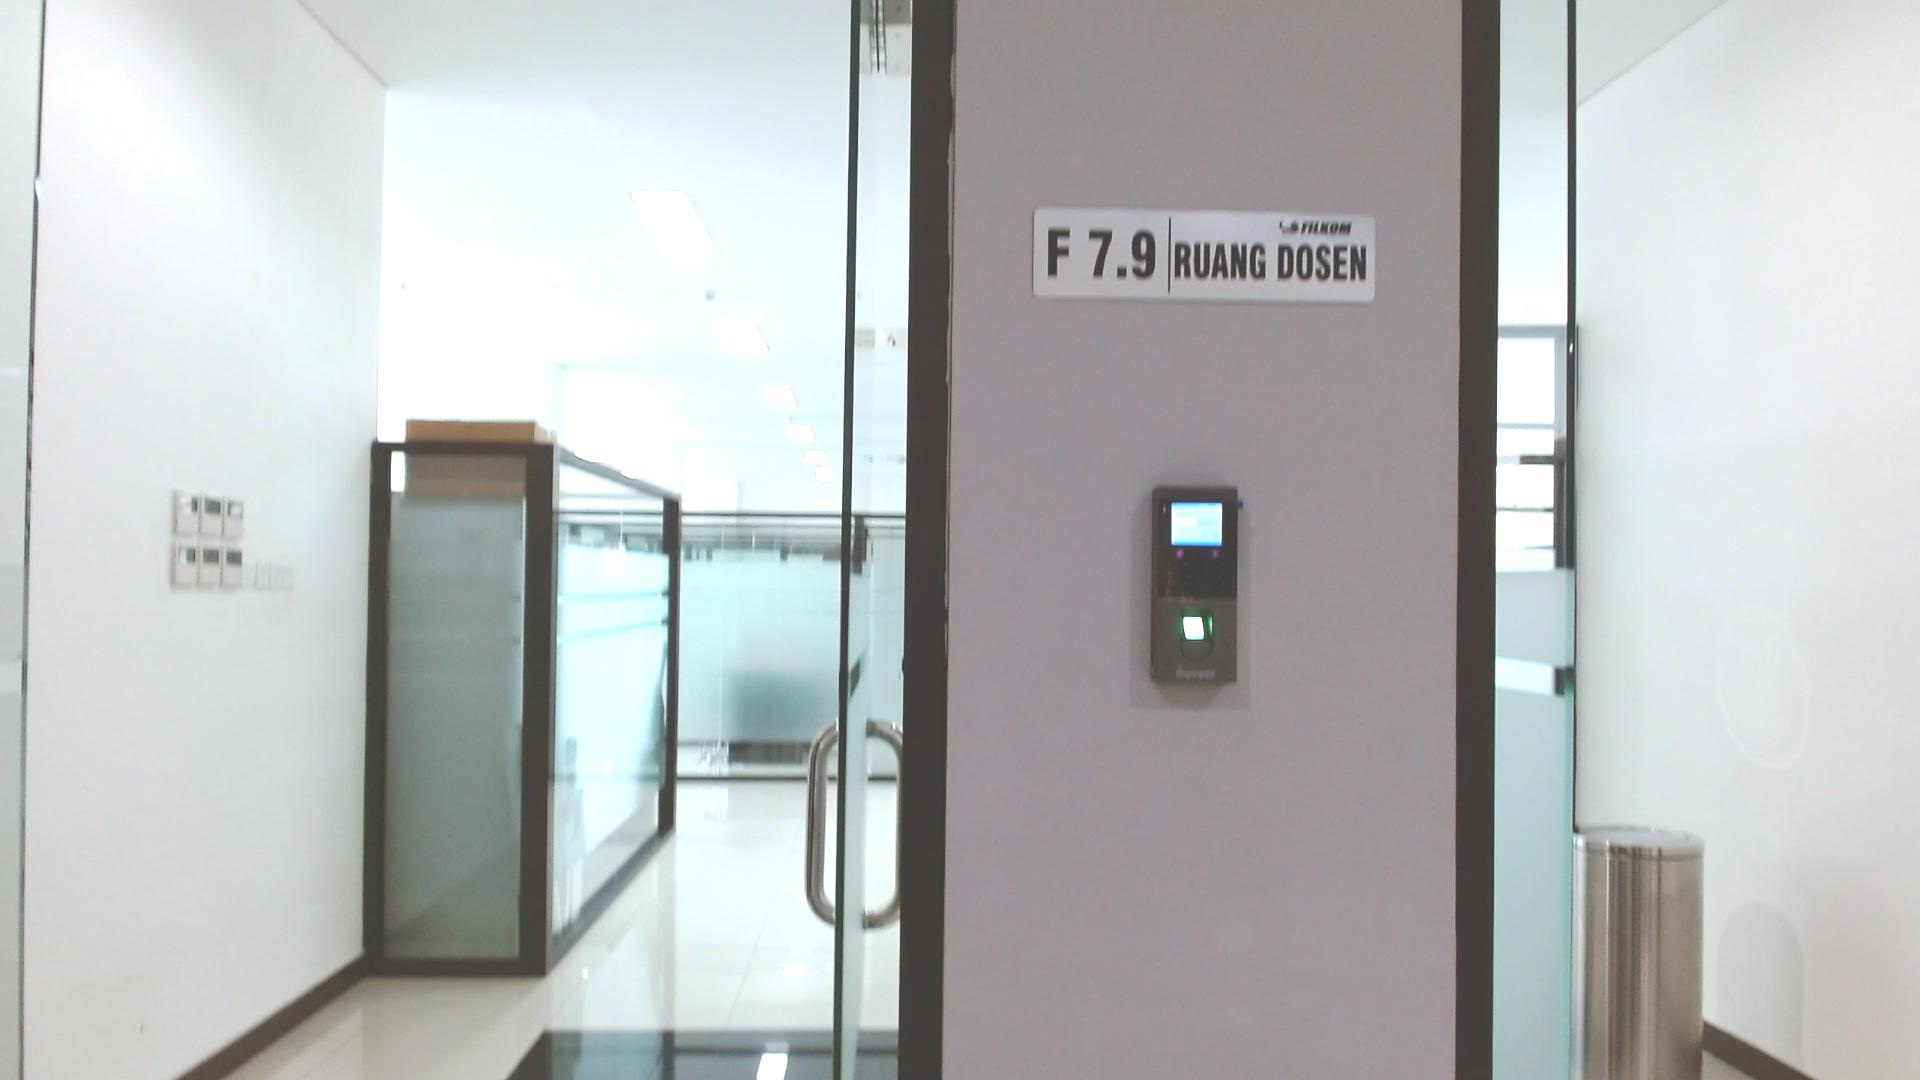plate: (1031, 206, 1377, 302)
